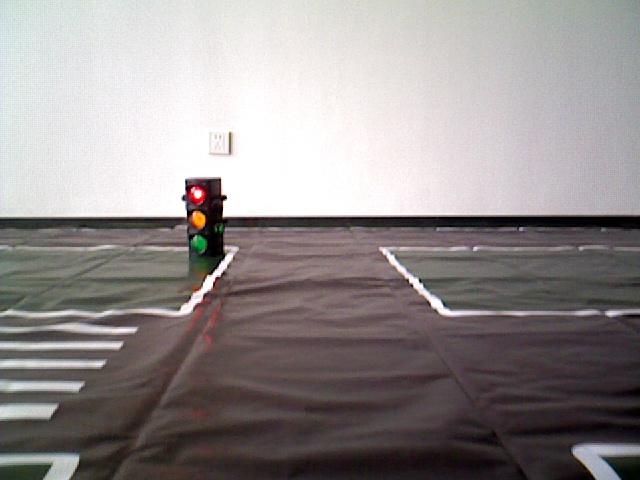red: (187, 177, 221, 257)
